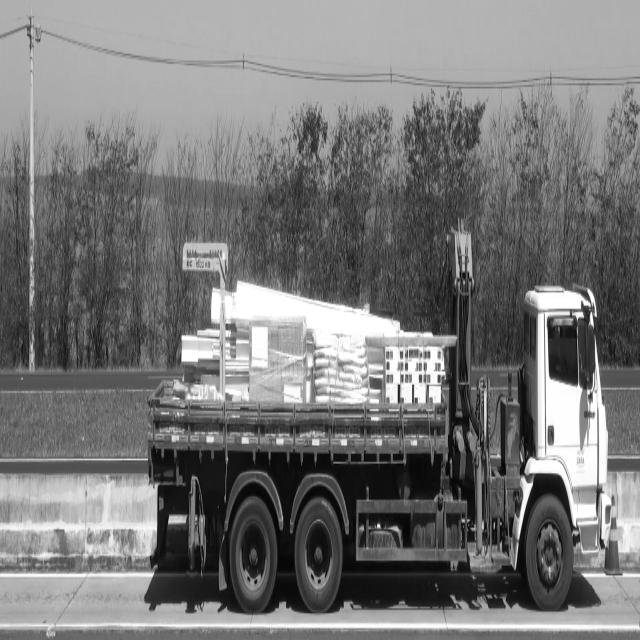Truck: (148, 219, 610, 611)
